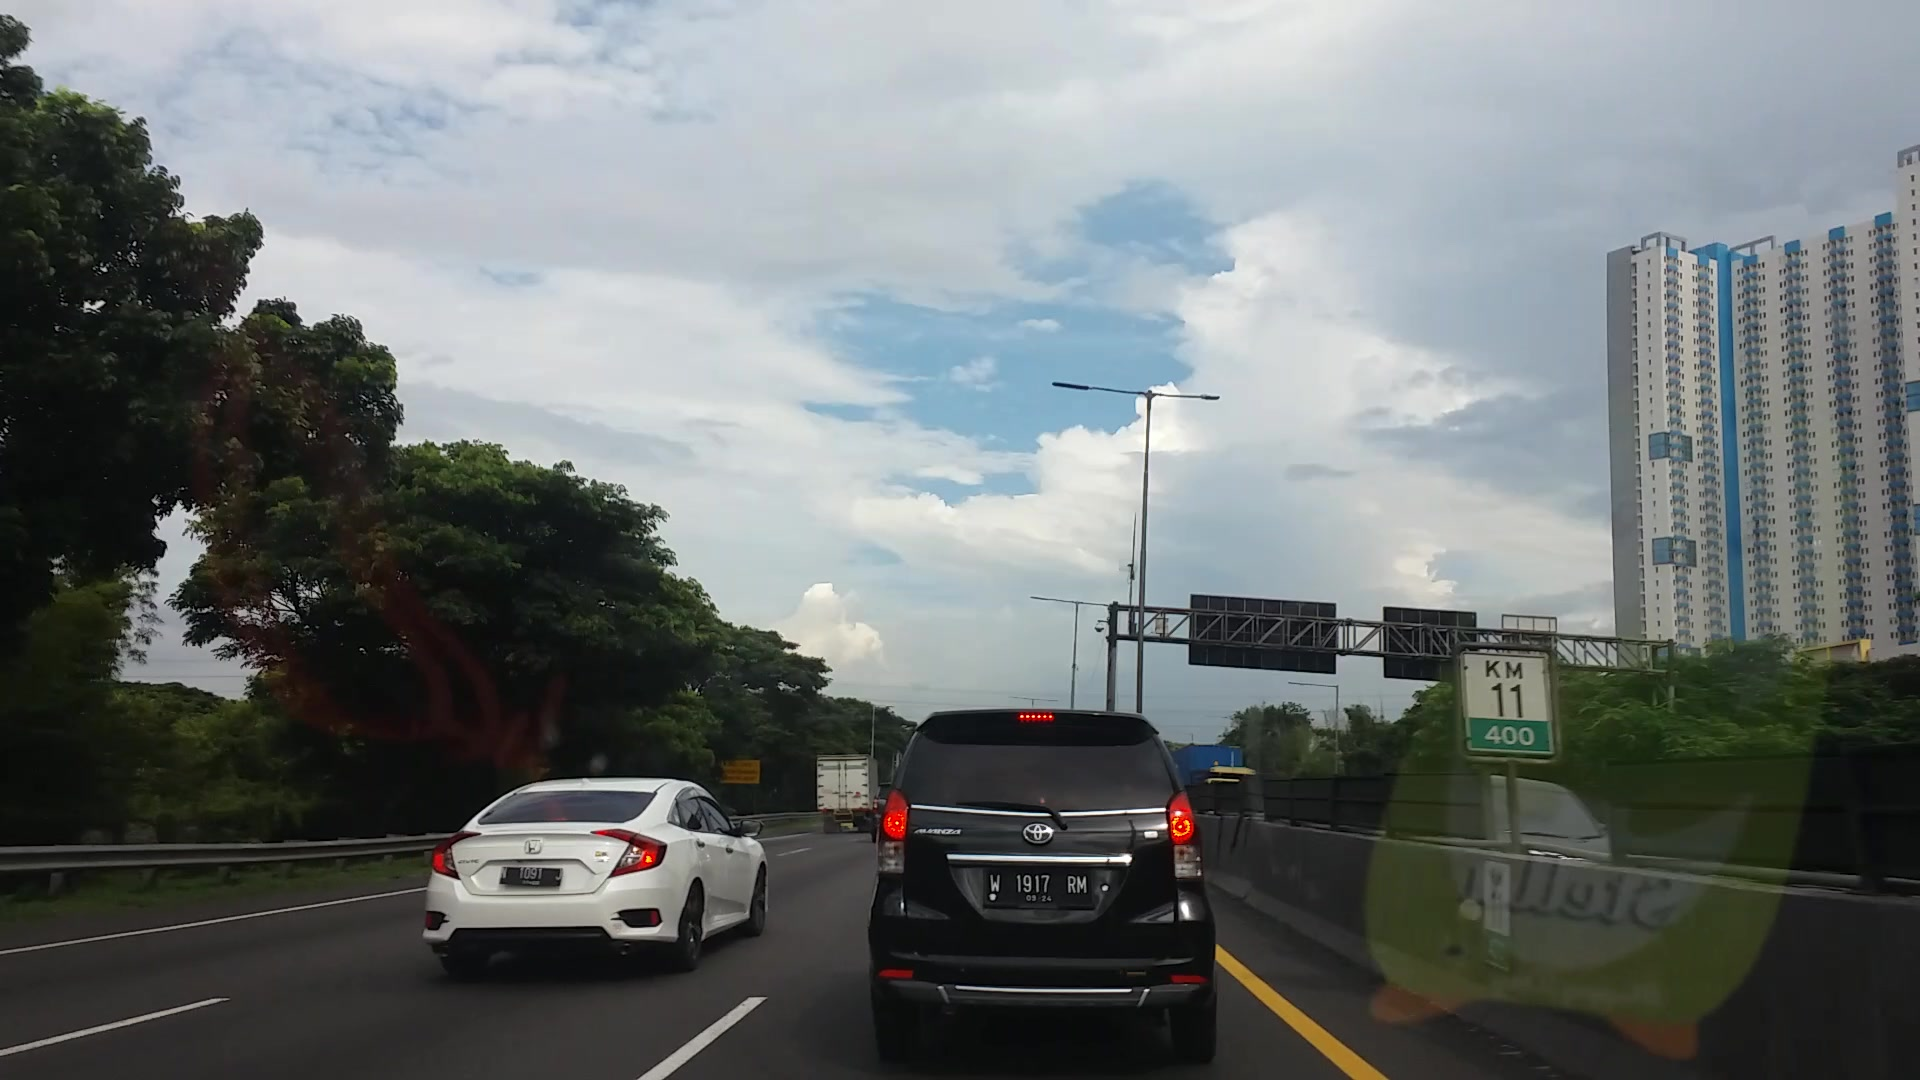plate_positive: (985, 869, 1091, 905)
